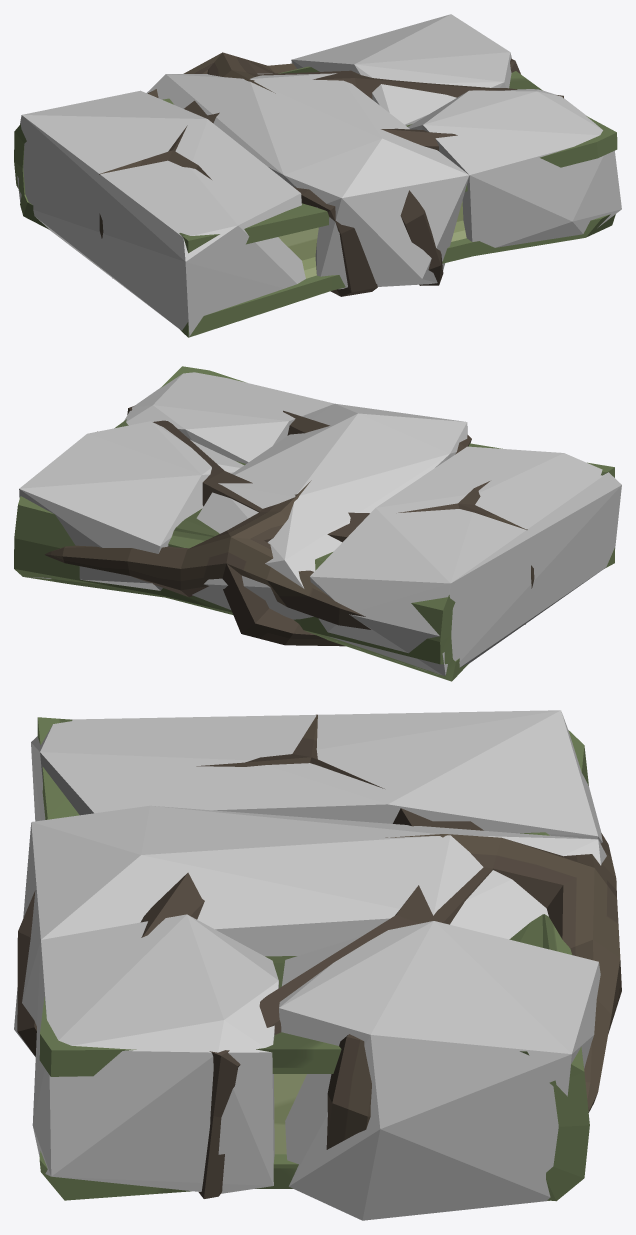
Rendered from SM_Item_Spellbook_04.fbx.
3 views of the same model, one above another, from view 1: azimuth 30°, elevation 25°; view 2: azimuth 150°, elevation 25°; view 3: azimuth 270°, elevation 25° (orthographic). The views are drawn at different scales.
Visible parts, largest first — view 1: SM_Item_Spellbook_04_ConvexHulls, SM_Item_Spellbook_04; view 2: SM_Item_Spellbook_04_ConvexHulls, SM_Item_Spellbook_04; view 3: SM_Item_Spellbook_04_ConvexHulls, SM_Item_Spellbook_04.
Boxes of the visible parts, x1,y1,x2,y2 form: SM_Item_Spellbook_04_ConvexHulls: (17,14,621,336); SM_Item_Spellbook_04: (14,52,617,337); SM_Item_Spellbook_04_ConvexHulls: (19,372,621,675); SM_Item_Spellbook_04: (14,366,614,681); SM_Item_Spellbook_04_ConvexHulls: (14,710,606,1220); SM_Item_Spellbook_04: (17,714,621,1201).
Size of the model in its own units: 49.79 by 37.23 by 15.15.
Materials: 2 (1 with a texture image).
